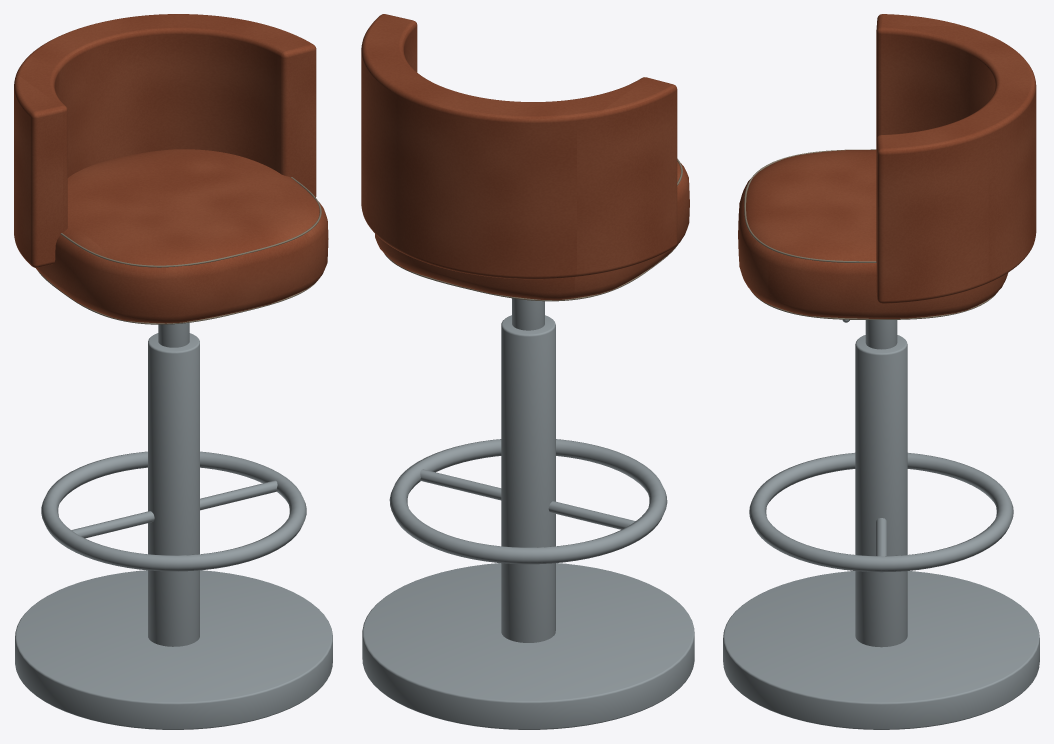
The model's file is stool-original.glb.
3 renders of one model, left to right at view 1: azimuth 30°, elevation 25°; view 2: azimuth 150°, elevation 25°; view 3: azimuth 270°, elevation 25°, orthographic. The views are drawn at different scales.
Visible parts, largest first — view 1: Leather | low embracing back, Leather | circular bar seat, Steel | circular weighted base, Steel | gas-lift outer, Steel | foot ring, Foot ring | radial brace.001, Foot ring | radial brace, Leather | circular bar seat | upper tailored welt, Steel | inner lift, Leather | circular bar seat | lower tailored welt; view 2: Leather | low embracing back, Steel | circular weighted base, Steel | gas-lift outer, Steel | foot ring, Leather | circular bar seat, Foot ring | radial brace.001, Foot ring | radial brace, Steel | inner lift, Leather | circular bar seat | lower tailored welt; view 3: Leather | low embracing back, Steel | circular weighted base, Leather | circular bar seat, Steel | gas-lift outer, Steel | foot ring, Steel | inner lift, Leather | circular bar seat | upper tailored welt.
Boxes of the visible parts, x1,y1,x2,y2 form: Leather | low embracing back: [14, 14, 316, 267]; Leather | circular bar seat: [36, 149, 328, 323]; Steel | circular weighted base: [15, 570, 332, 729]; Steel | gas-lift outer: [148, 333, 199, 646]; Steel | foot ring: [41, 451, 306, 571]; Foot ring | radial brace.001: [200, 480, 277, 510]; Foot ring | radial brace: [71, 511, 154, 538]; Leather | circular bar seat | upper tailored welt: [60, 177, 321, 267]; Steel | inner lift: [158, 322, 189, 347]; Leather | circular bar seat | lower tailored welt: [37, 270, 315, 324]; Leather | low embracing back: [361, 14, 677, 279]; Steel | circular weighted base: [362, 563, 694, 729]; Steel | gas-lift outer: [501, 315, 555, 642]; Steel | foot ring: [389, 439, 667, 564]; Leather | circular bar seat: [375, 161, 689, 300]; Foot ring | radial brace.001: [420, 469, 501, 500]; Foot ring | radial brace: [548, 501, 635, 529]; Steel | inner lift: [512, 298, 544, 330]; Leather | circular bar seat | lower tailored welt: [384, 244, 678, 301]; Leather | low embracing back: [876, 14, 1036, 303]; Steel | circular weighted base: [723, 571, 1039, 729]; Leather | circular bar seat: [738, 150, 1007, 318]; Steel | gas-lift outer: [855, 335, 907, 647]; Steel | foot ring: [749, 453, 1013, 572]; Steel | inner lift: [865, 320, 897, 349]; Leather | circular bar seat | upper tailored welt: [744, 149, 876, 262].
Bounding box in the file's own units: 0.5389 × 1.06 × 0.522.
4 materials, 1 textured.
